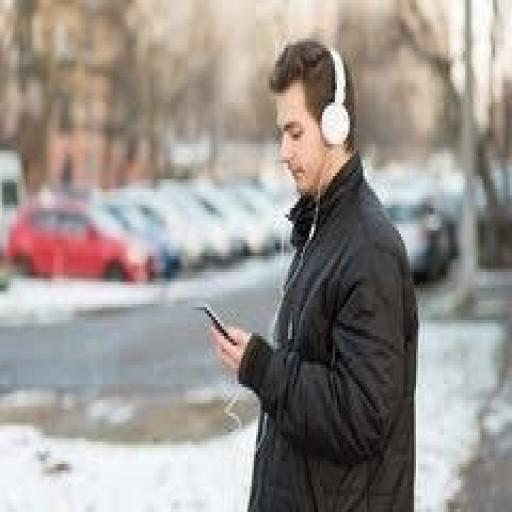listening_to_music: (207, 35, 422, 509)
